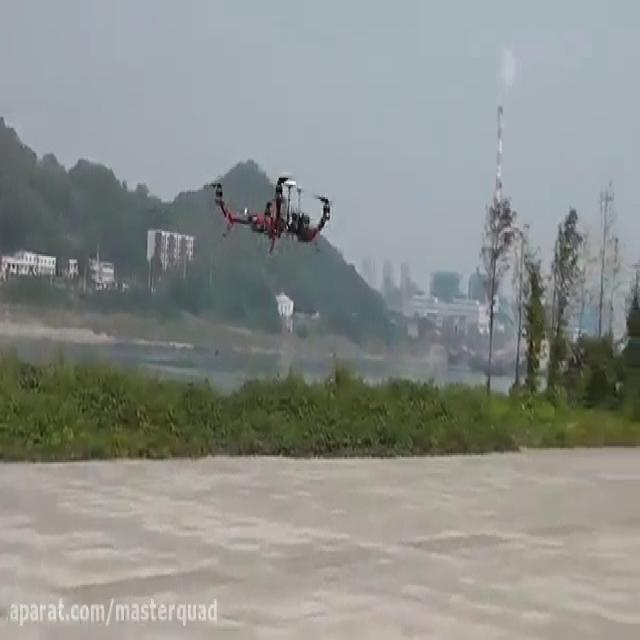drone: (204, 171, 337, 256)
